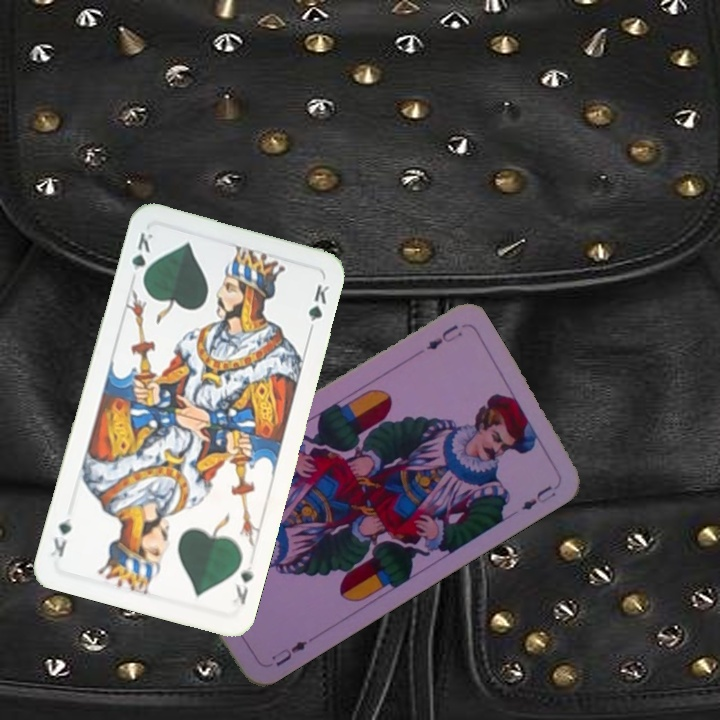EU: (267, 634, 316, 669), (422, 320, 466, 353)
GK: (127, 229, 156, 286), (228, 559, 257, 607)
